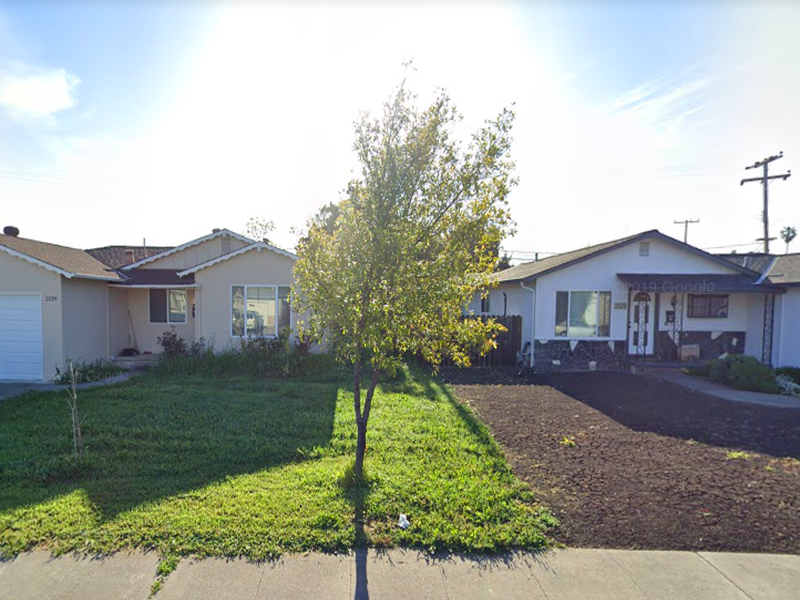tree: (289, 53, 523, 490)
